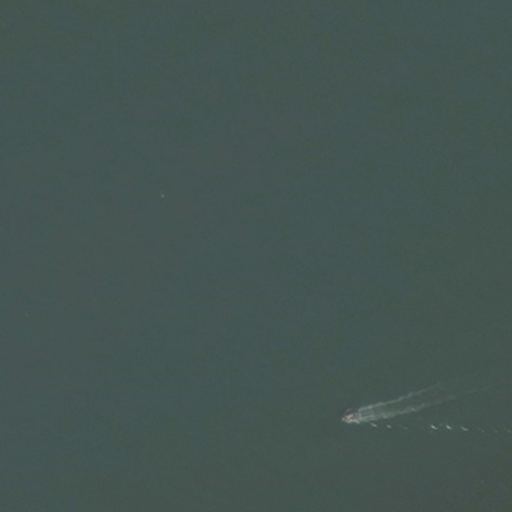ship: (338, 409, 363, 427)
